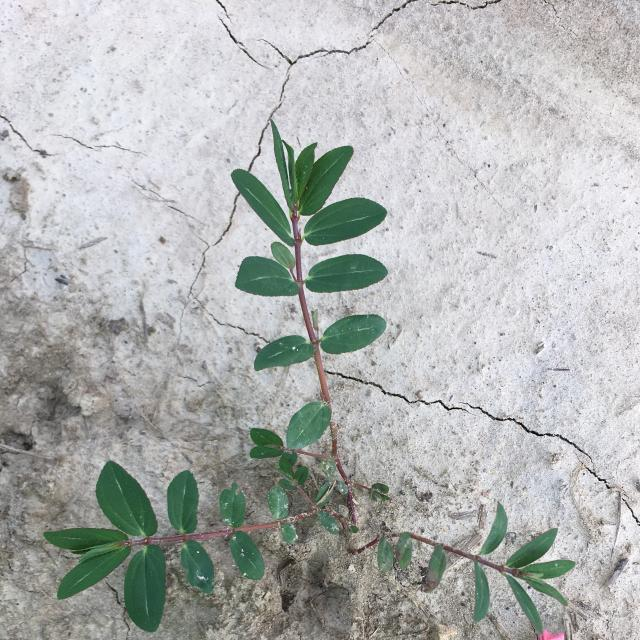SpottedSpurge: (42, 118, 578, 636)
